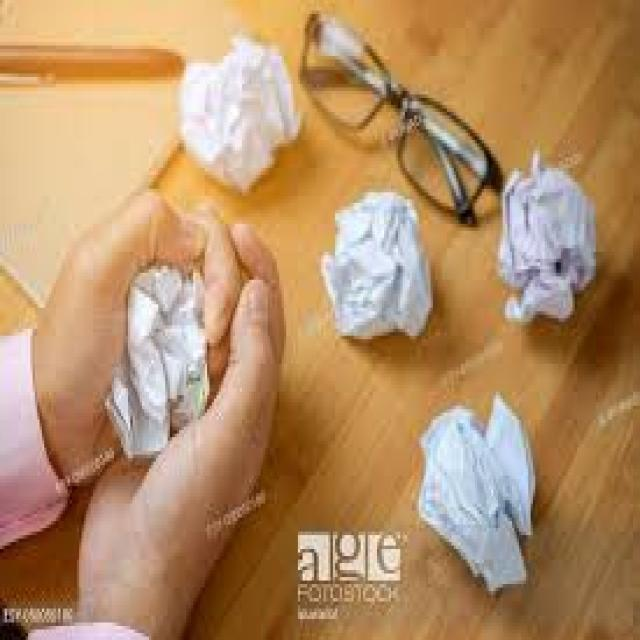Paper: (417, 386, 538, 598), (100, 259, 216, 462), (179, 35, 305, 196), (319, 189, 433, 343), (498, 157, 596, 329)
